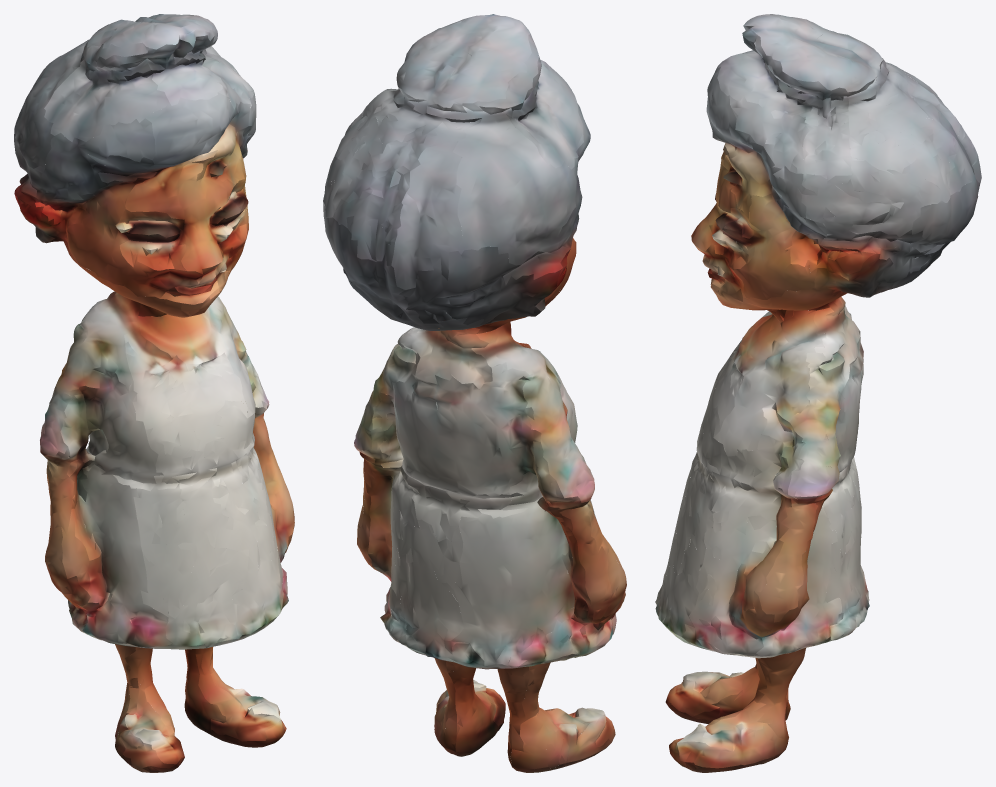
Rendered from abuela-patio-lod0.glb.
The picture shows the model from 3 angles, left to right: view 1: azimuth 30°, elevation 25°; view 2: azimuth 150°, elevation 25°; view 3: azimuth 270°, elevation 25°; orthographic projection. The views are drawn at different scales.
Visible parts, largest first — view 1: geometry_0; view 2: geometry_0; view 3: geometry_0.
Part boxes in pixels (box(x1,y1,x2,y2)): geometry_0: box(14, 14, 294, 772); geometry_0: box(323, 14, 626, 772); geometry_0: box(655, 14, 981, 772).
Bounding box in the file's own units: 1.47 × 4.14 × 1.7.
1 material, 1 textured.
